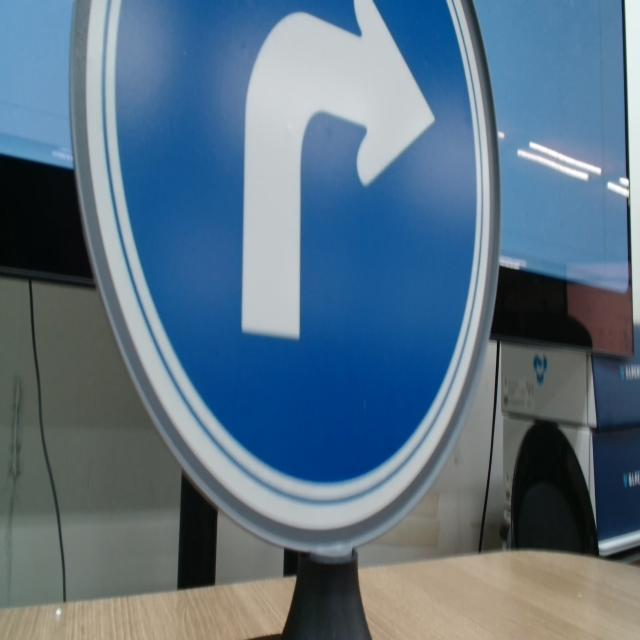right_dierection: (62, 0, 506, 564)
